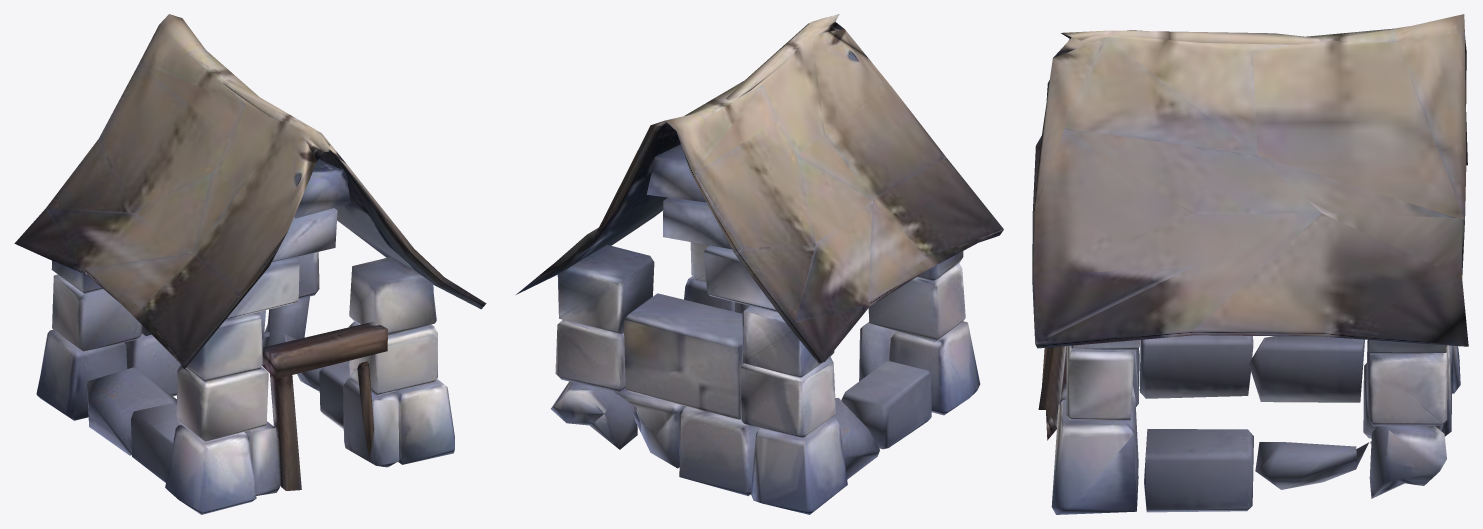
File: m-maison-semis.glb
3 renders of one model, left to right at view 1: azimuth 30°, elevation 25°; view 2: azimuth 150°, elevation 25°; view 3: azimuth 270°, elevation 25°, orthographic. The views are drawn at different scales.
Parts seen in each view (by area): view 1: m-maison-leger; view 2: m-maison-leger; view 3: m-maison-leger.
Part boxes in pixels (<box>): m-maison-leger: <box>14,14,486,514</box>; m-maison-leger: <box>516,14,1003,514</box>; m-maison-leger: <box>1032,14,1468,514</box>.
Bounding box in the file's own units: 1.75 × 1.97 × 1.79.
Materials: 1 (1 with a texture image).
